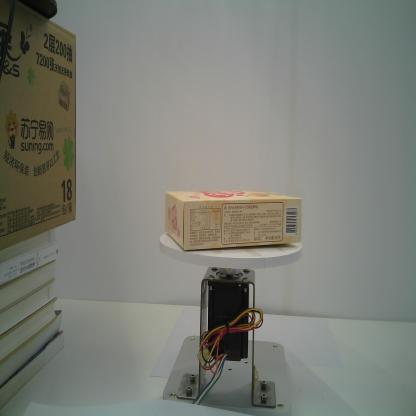Dessert: (166, 189, 302, 251)
